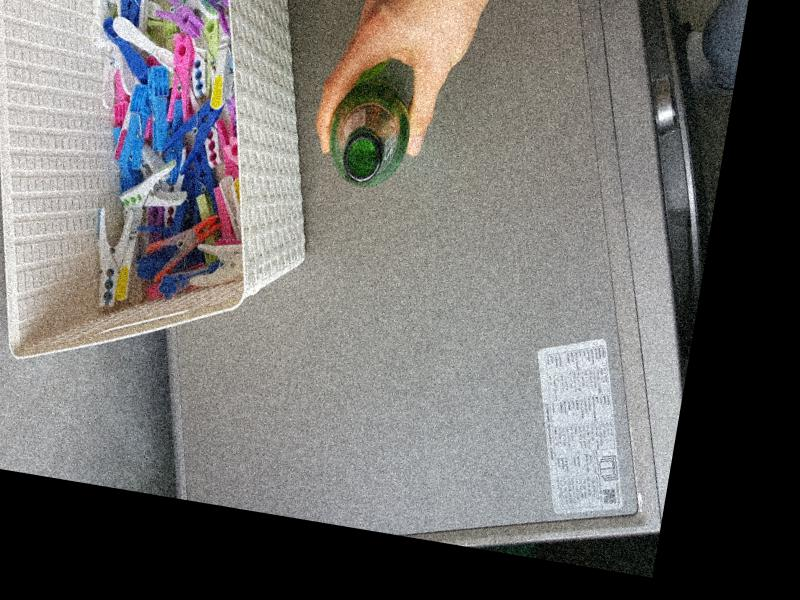Beer: (322, 69, 418, 192)
